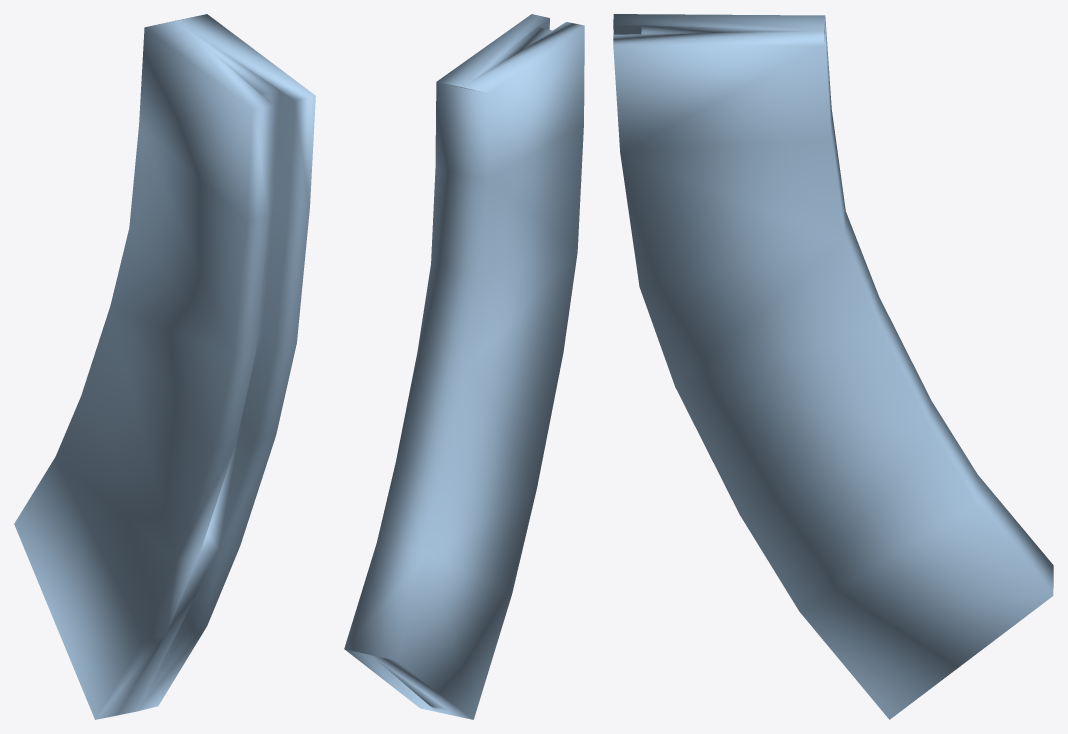
Rendered from w_crossbow_mag.fbx.
3 renders of one model, left to right at view 1: azimuth 30°, elevation 25°; view 2: azimuth 150°, elevation 25°; view 3: azimuth 270°, elevation 25°, orthographic. The views are drawn at different scales.
Visible parts, largest first — view 1: w_crossbow_mag; view 2: w_crossbow_mag; view 3: w_crossbow_mag.
Part boxes in pixels (box(x1,y1,x2,y2)): w_crossbow_mag: box(14, 14, 315, 719); w_crossbow_mag: box(344, 14, 584, 719); w_crossbow_mag: box(613, 14, 1053, 719).
Bounding box in the file's own units: 205 × 1790 × 1047.
